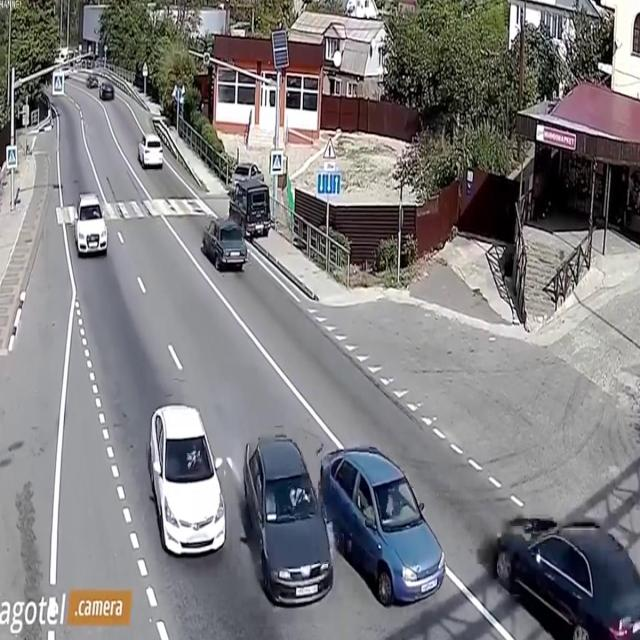accident: (235, 426, 451, 626)
non_accident: (196, 157, 276, 285)
